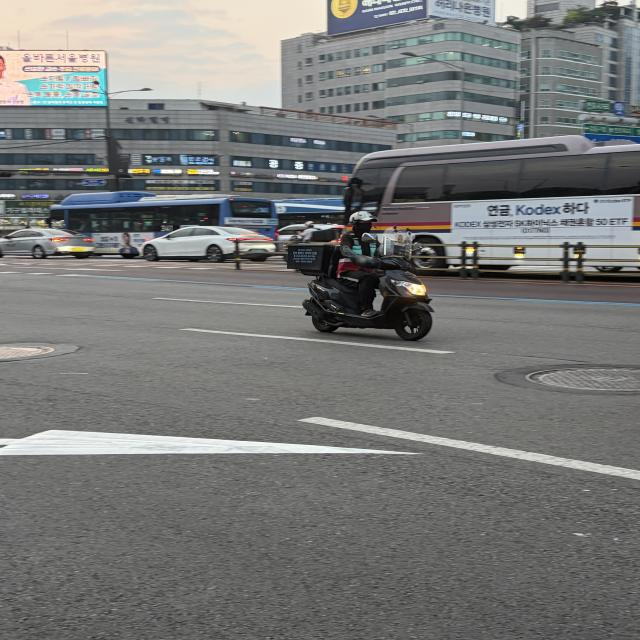car: (338, 130, 640, 292), (50, 193, 283, 259)
motorcycle: (270, 210, 458, 348)
